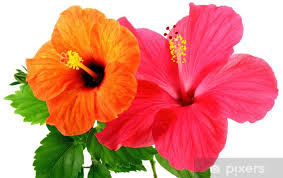hybiscus: (26, 5, 139, 137)
